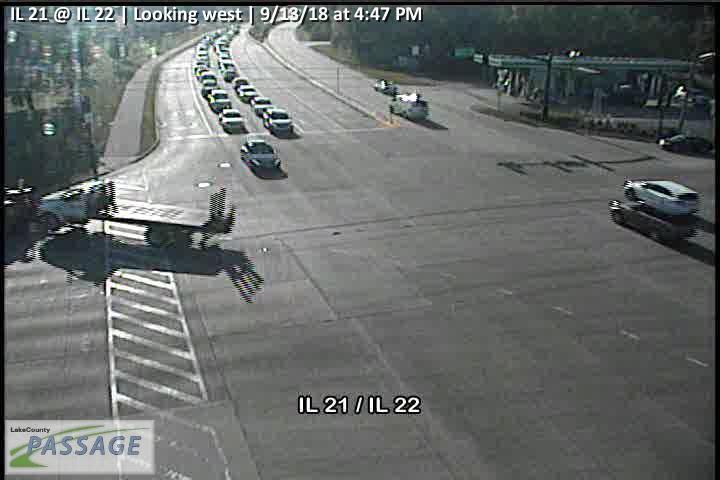SUV: (609, 199, 692, 241), (624, 178, 701, 215), (263, 108, 294, 135), (209, 89, 232, 110), (250, 96, 274, 115), (201, 78, 220, 95), (237, 85, 257, 100)
Sedan: (239, 138, 282, 170), (658, 133, 713, 153), (219, 108, 245, 132), (373, 78, 397, 93)
Truck: (4, 177, 236, 249), (390, 93, 429, 121)
